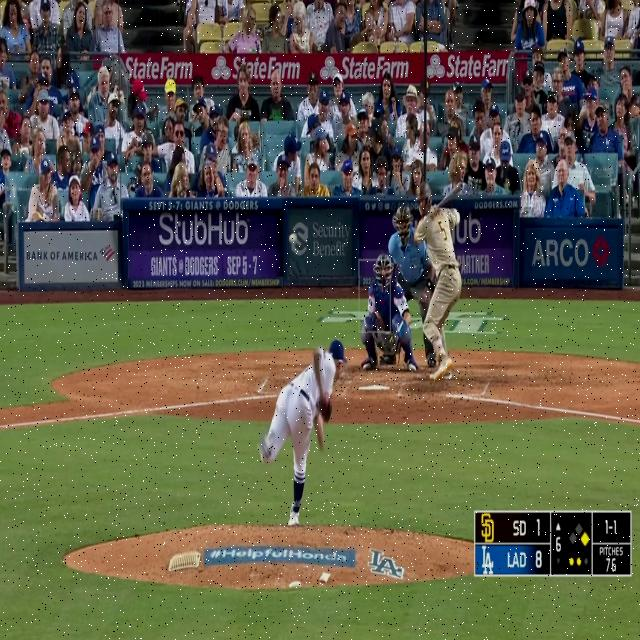baseball: (288, 232, 296, 245)
